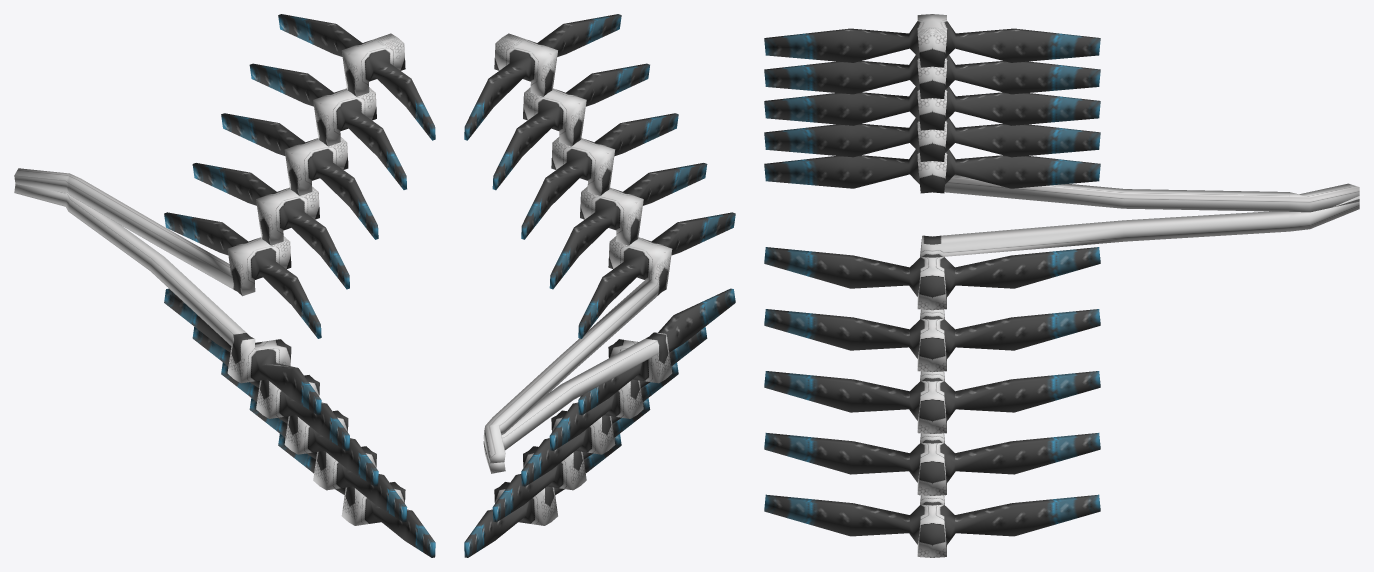
File: SensoresHabitats.fbx
3 renders of one model, left to right at view 1: azimuth 30°, elevation 25°; view 2: azimuth 150°, elevation 25°; view 3: azimuth 270°, elevation 25°, orthographic. The views are drawn at different scales.
Visible parts, largest first — view 1: Habitats; view 2: Habitats; view 3: Habitats.
Part boxes in pixels (<box>): Habitats: <box>14,14,435,557</box>; Habitats: <box>464,14,735,557</box>; Habitats: <box>764,14,1359,557</box>.
Bounding box in the file's own units: 0.9929 × 2.31 × 2.39.
1 material, 1 textured.
